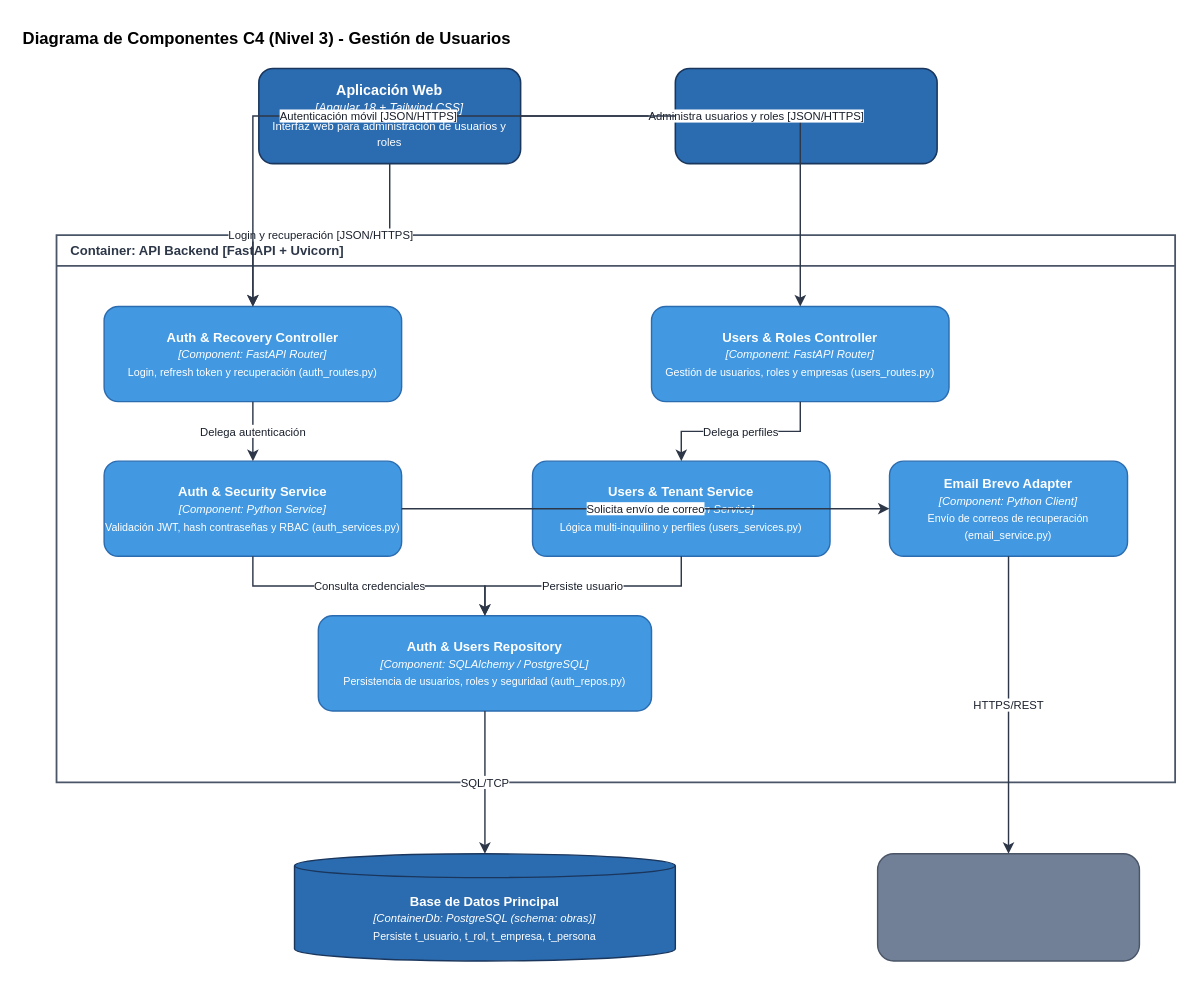
Image size: 1196x982. Some labels were removed from this diagram. The shapes that lost their labels are listed below. From the top down, each one's centre as x and y in pixels, then its label:
At pixel 805 115: "Aplicación Móvil [Flutter + Dart] App móvil para inicio de sesión de operadores".
At pixel 1008 907: "Brevo API [System_Ext: Servicio Externo] Servicio de correos transaccionales".
